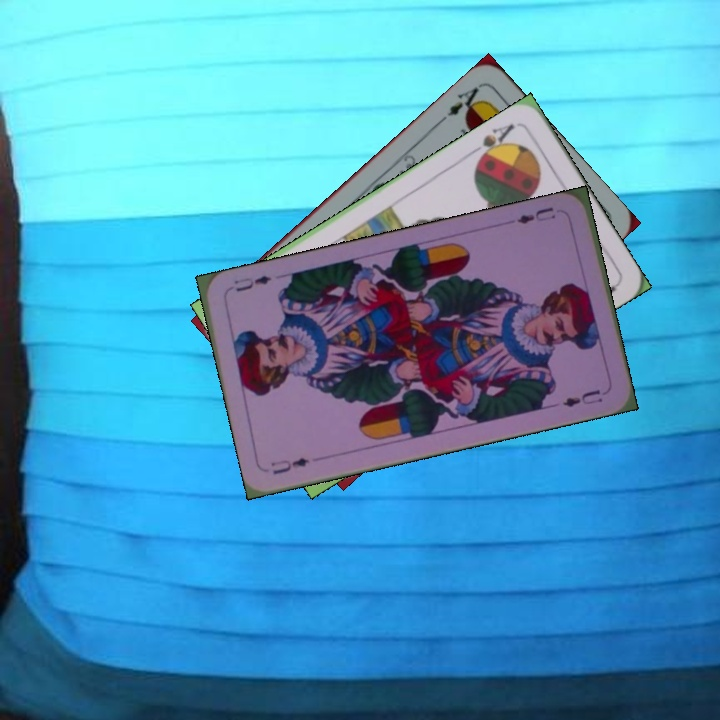EA: (443, 81, 486, 120)
EU: (513, 203, 558, 227), (267, 453, 312, 477)
SA: (467, 120, 517, 166)
